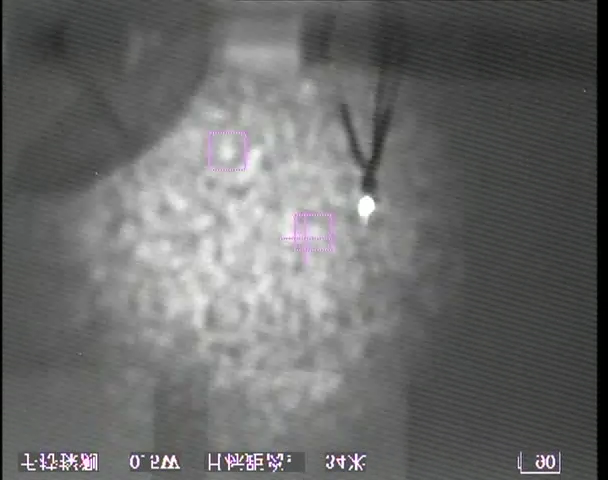my: (356, 194, 377, 220)
